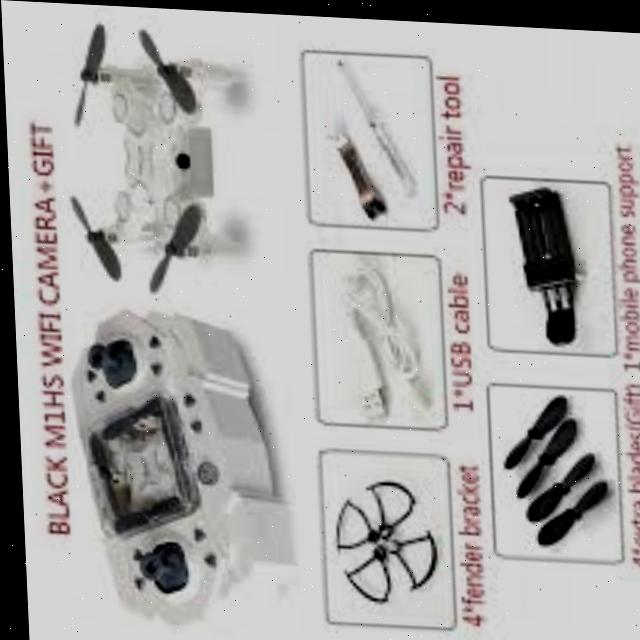drone: (63, 22, 261, 293)
